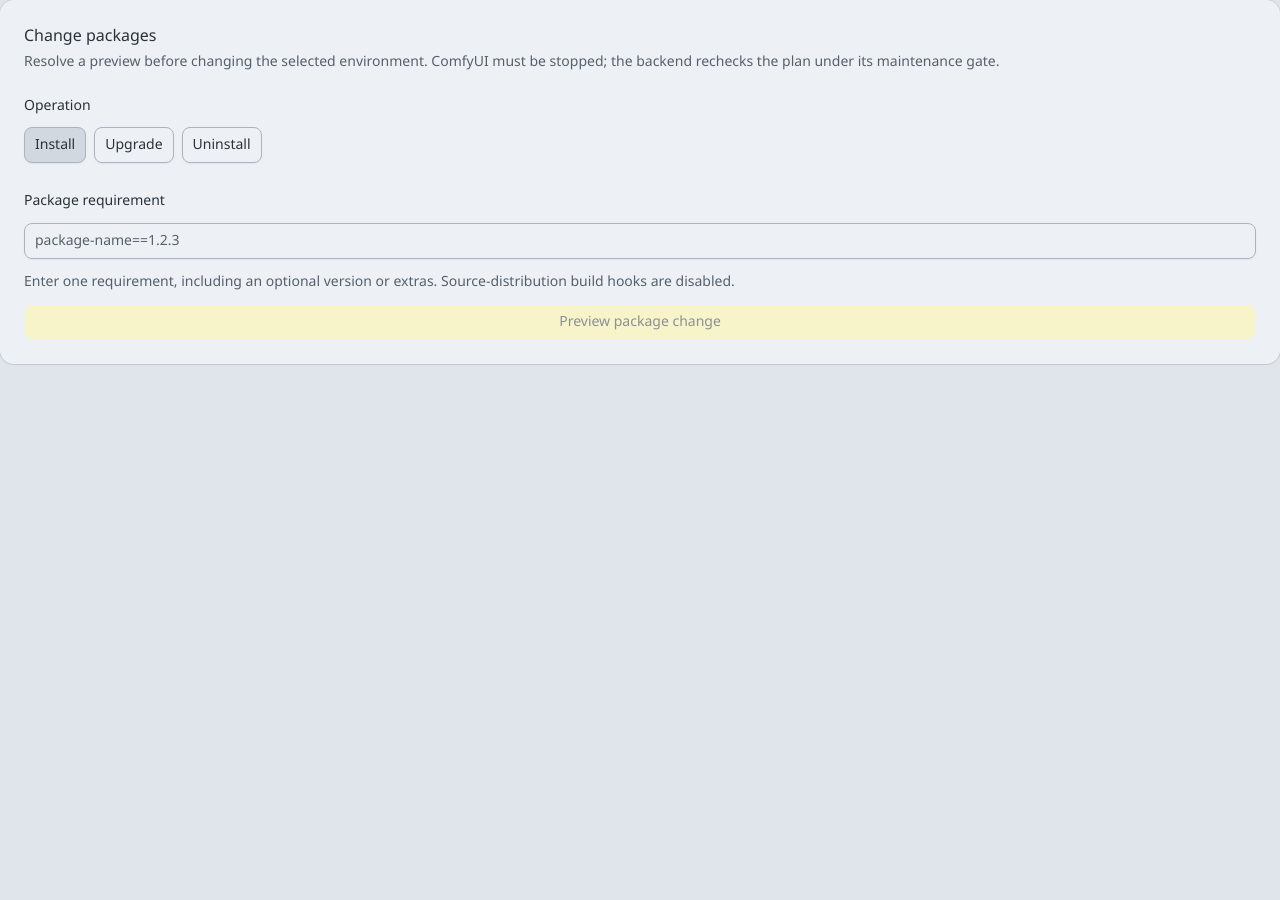
Test: requires a fresh preview after an apply failure and hides raw transport errors
Type "torch==2.14.2" into the field labelled "Package requirement".
click(640, 240); type("torch==2.14.2")  # box [24,222,1256,258]
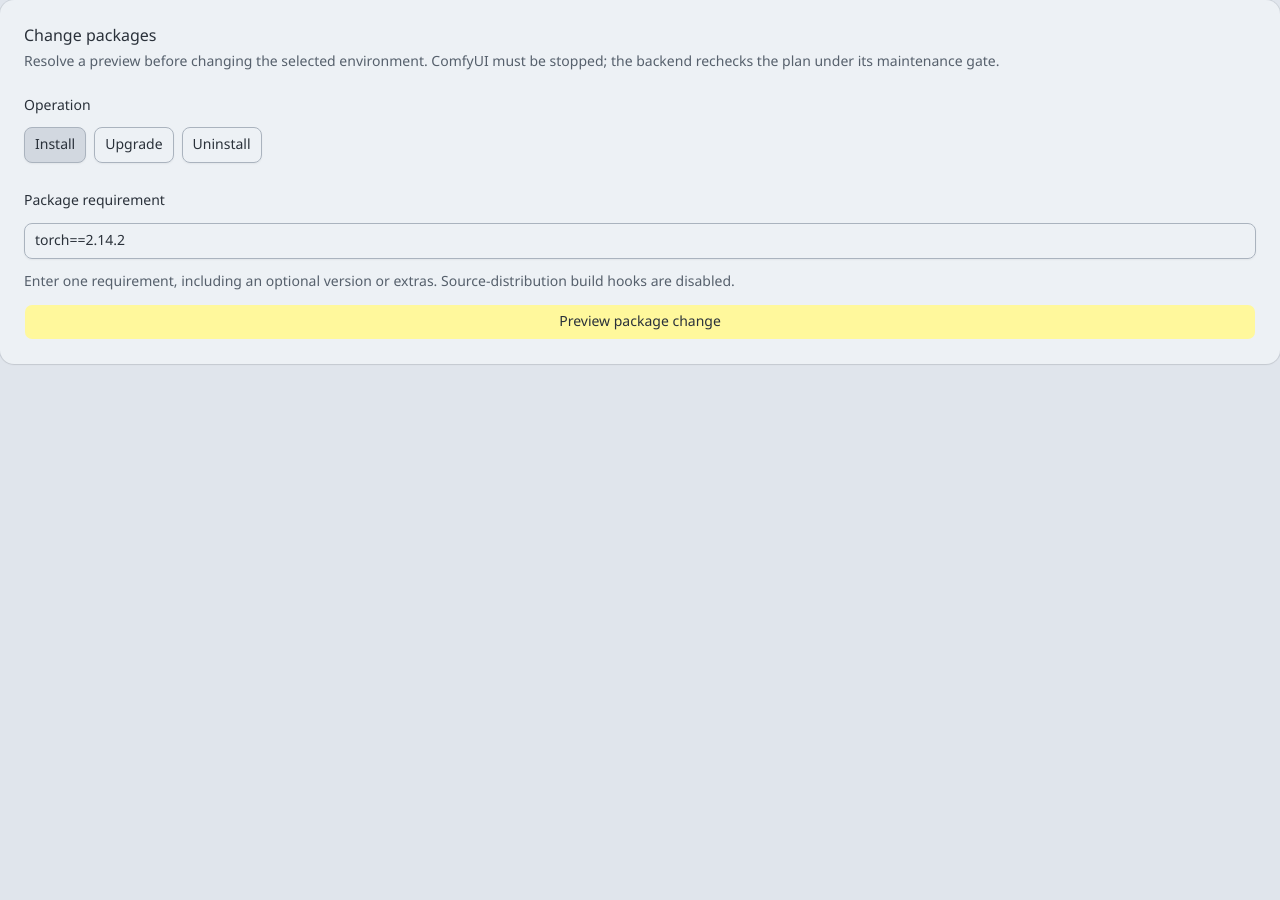
Click the button "Preview package change".
click(640, 322)  # box [24,304,1256,340]
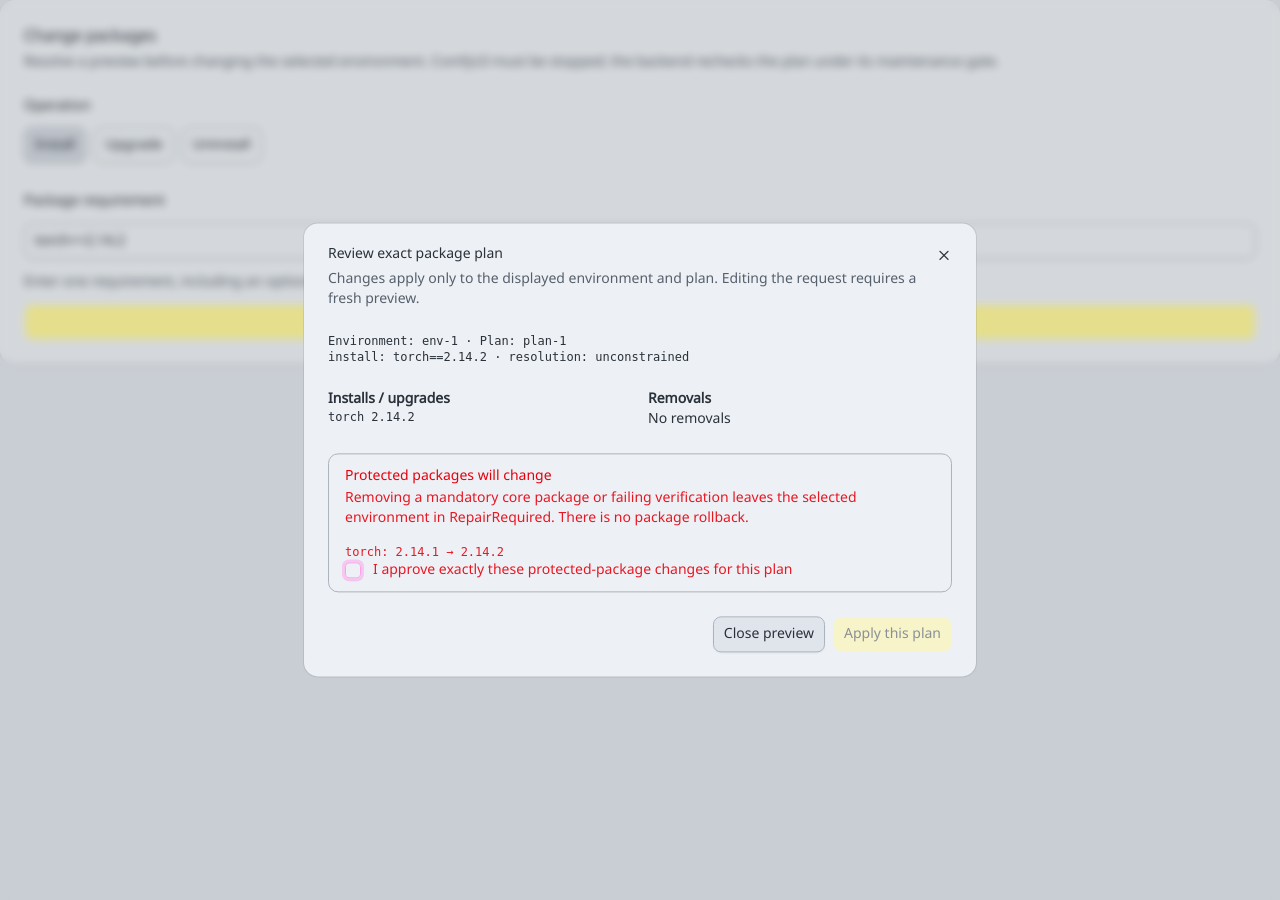
Expected: the dialog is shown, [304,223,976,677]
Click the checkbox.
click(353, 570)  # box [345,562,361,578]
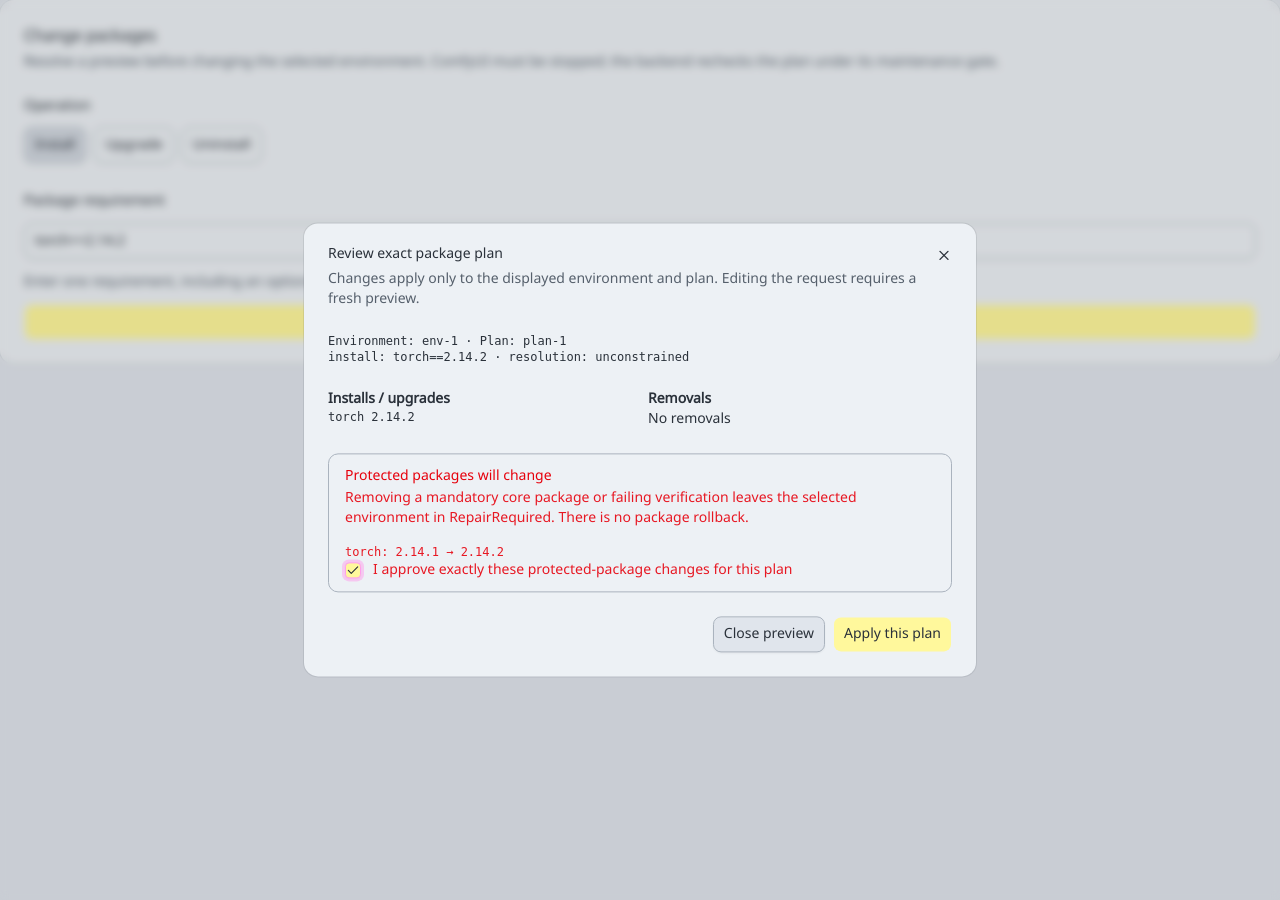
Click the button "Apply this plan".
click(892, 635)  # box [833,617,952,653]
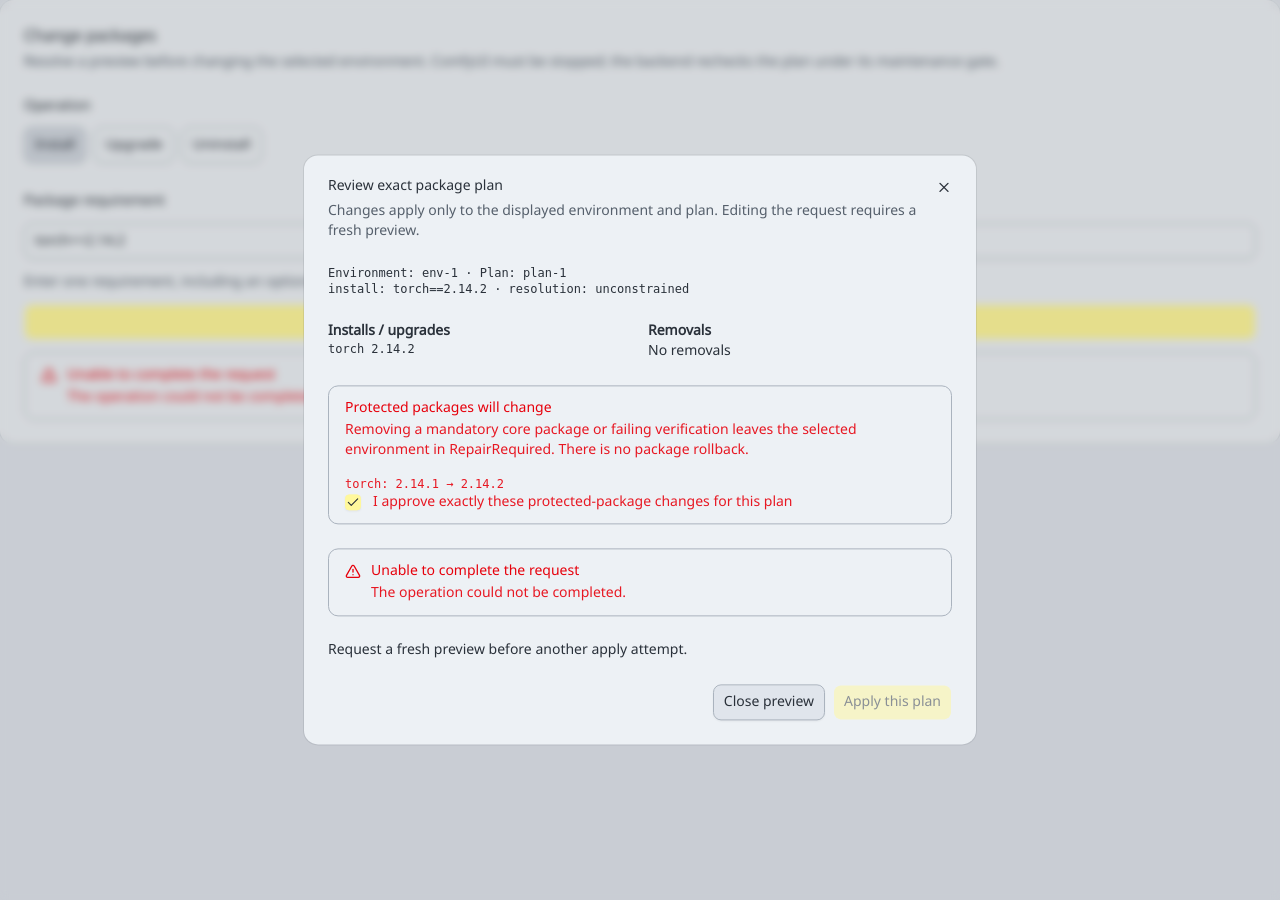
Expected: the text "Request a fresh preview before another apply attempt." is shown, [328,640,687,661]
Expected: the button "Apply this plan" is disabled, [833,685,952,721]
